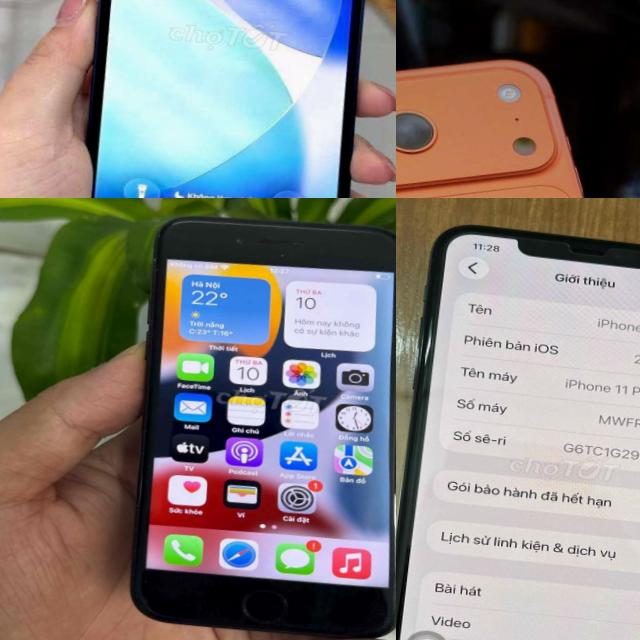gen_11: (396, 226, 640, 640)
gen_12_13: (61, 0, 388, 198)
gen_17: (396, 38, 640, 198)
gen_7_8: (95, 200, 396, 640)
scratch: (249, 225, 334, 268), (140, 220, 168, 261), (382, 553, 396, 617)
